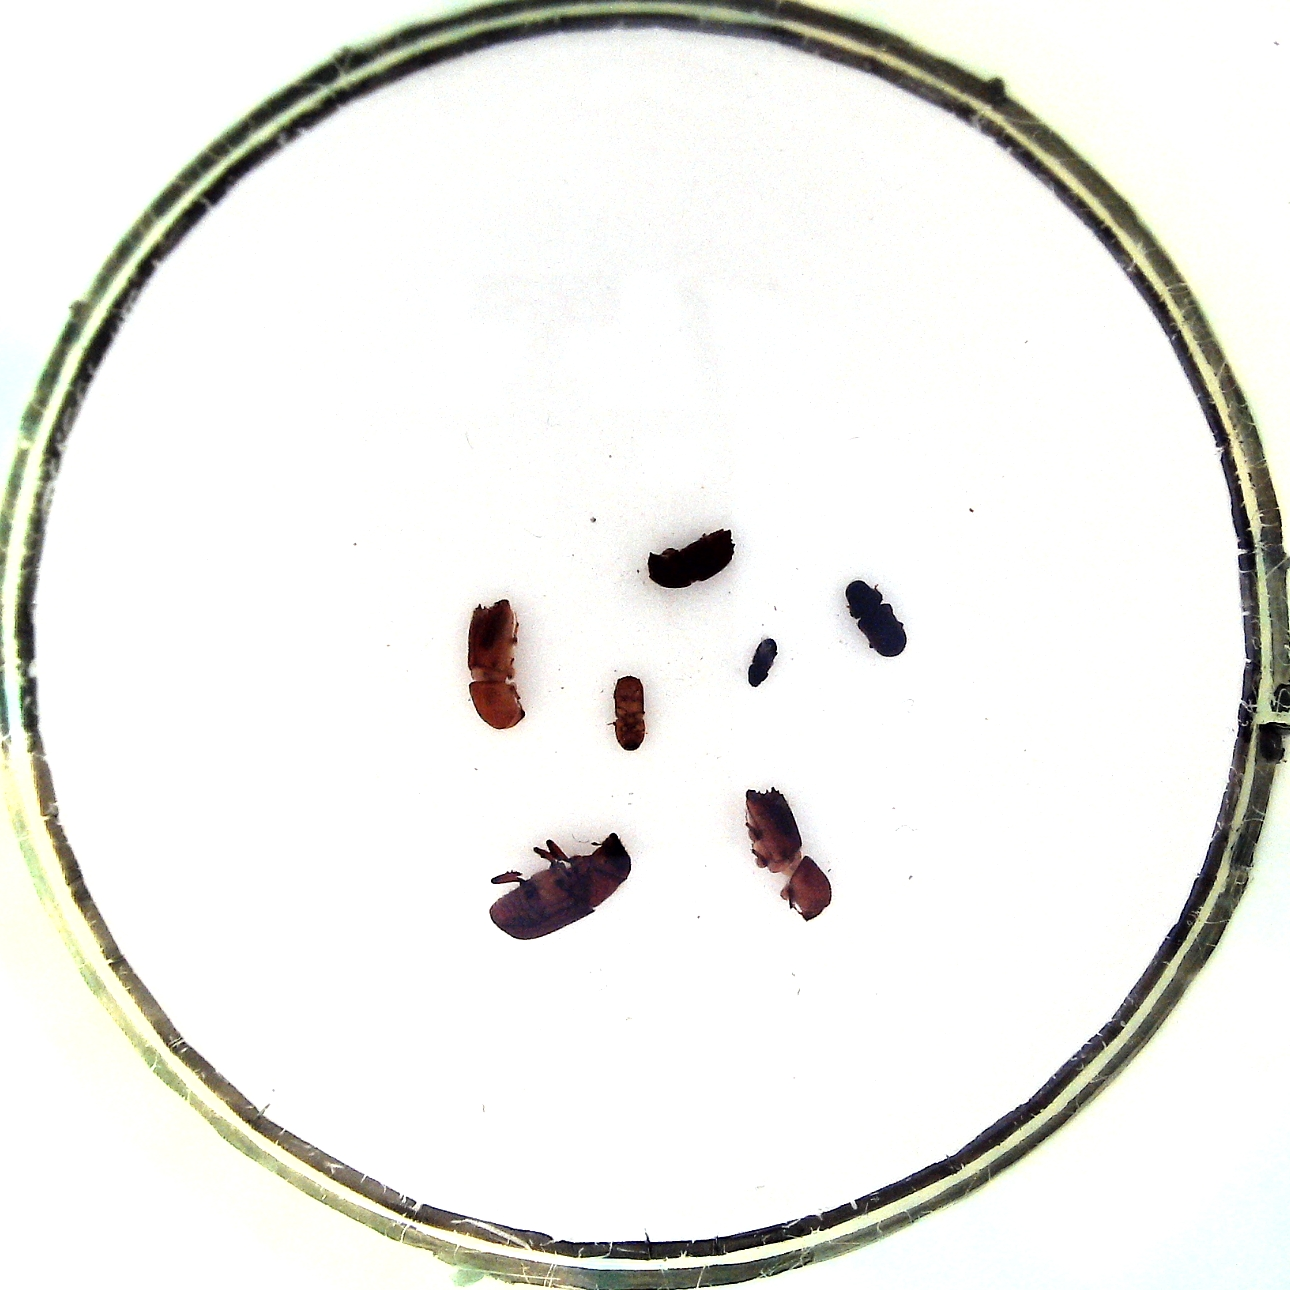Boerner: (740, 784, 835, 921), (463, 597, 533, 731)
Leconte: (484, 830, 633, 943)
Linnaeus: (645, 526, 740, 589)
acuminatus: (610, 675, 650, 754)
armandi: (843, 576, 910, 662)
coleoptera: (745, 633, 781, 689)
